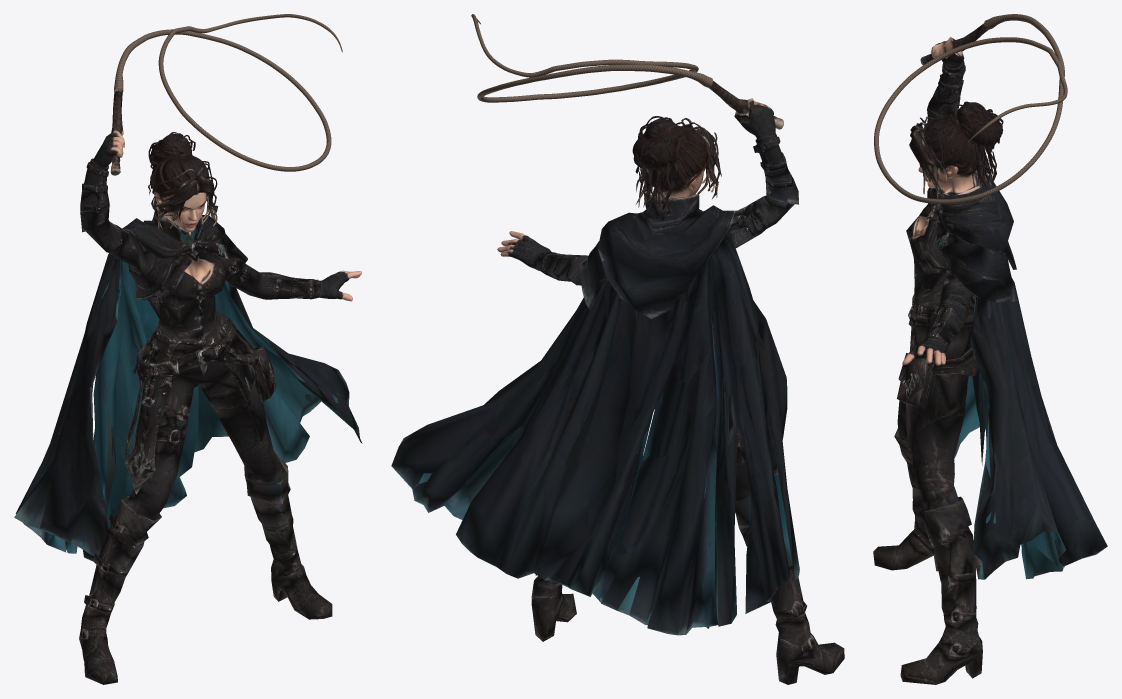
The model's file is sharon-meshy.glb.
The picture shows the model from 3 angles, left to right: view 1: azimuth 30°, elevation 25°; view 2: azimuth 150°, elevation 25°; view 3: azimuth 270°, elevation 25°; orthographic projection. The views are drawn at different scales.
Visible parts, largest first — view 1: sharon_lod0; view 2: sharon_lod0; view 3: sharon_lod0.
Boxes of the visible parts, left/top/right/bottom form: sharon_lod0: left=14, top=14, right=362, bottom=684; sharon_lod0: left=391, top=14, right=844, bottom=684; sharon_lod0: left=873, top=14, right=1107, bottom=684.
Size of what is drawn, in the model's own units: 0.8318 by 1.32 by 0.4727.
2 materials, 2 textured.
